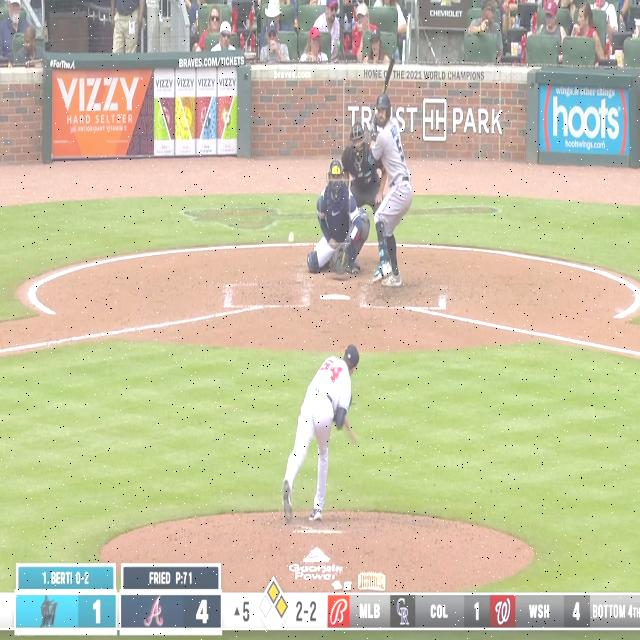baseball: (288, 232, 294, 244)
